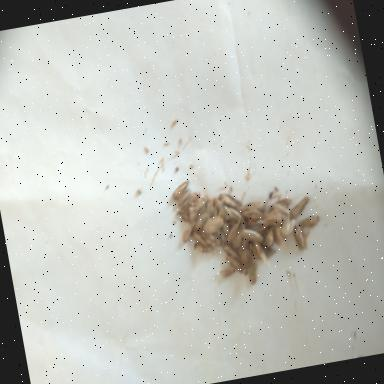pbw: (217, 190, 243, 213), (186, 196, 210, 220), (222, 219, 244, 245), (177, 192, 203, 214), (288, 196, 312, 219), (277, 214, 298, 240), (213, 195, 232, 222), (225, 252, 244, 276), (254, 239, 270, 267), (242, 226, 264, 246), (170, 180, 192, 200), (202, 215, 224, 235), (240, 200, 267, 216), (194, 239, 218, 257), (292, 222, 306, 252), (270, 200, 292, 219), (262, 209, 284, 227), (179, 221, 197, 243), (191, 228, 208, 250), (192, 212, 211, 231), (175, 187, 193, 207), (222, 243, 240, 263), (260, 227, 276, 249), (241, 208, 264, 222), (298, 214, 321, 228), (228, 204, 244, 224), (246, 261, 259, 285), (239, 248, 253, 268), (207, 231, 222, 248), (218, 268, 237, 280)
